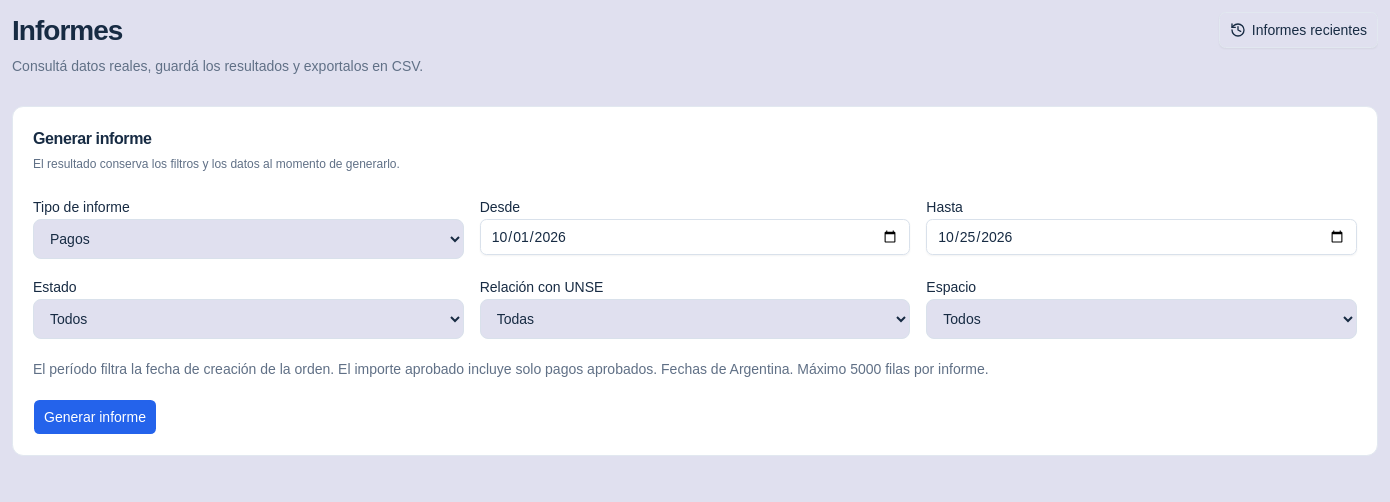
Test case: Reportes y encuestas conectados › envía filtros al backend y exporta la instantánea generada
The image size is (1390, 502).
In the date field labelled "Desde": x=695, y=237 top-left (480, 219), bottom-right (910, 255), type "2026-09-01"
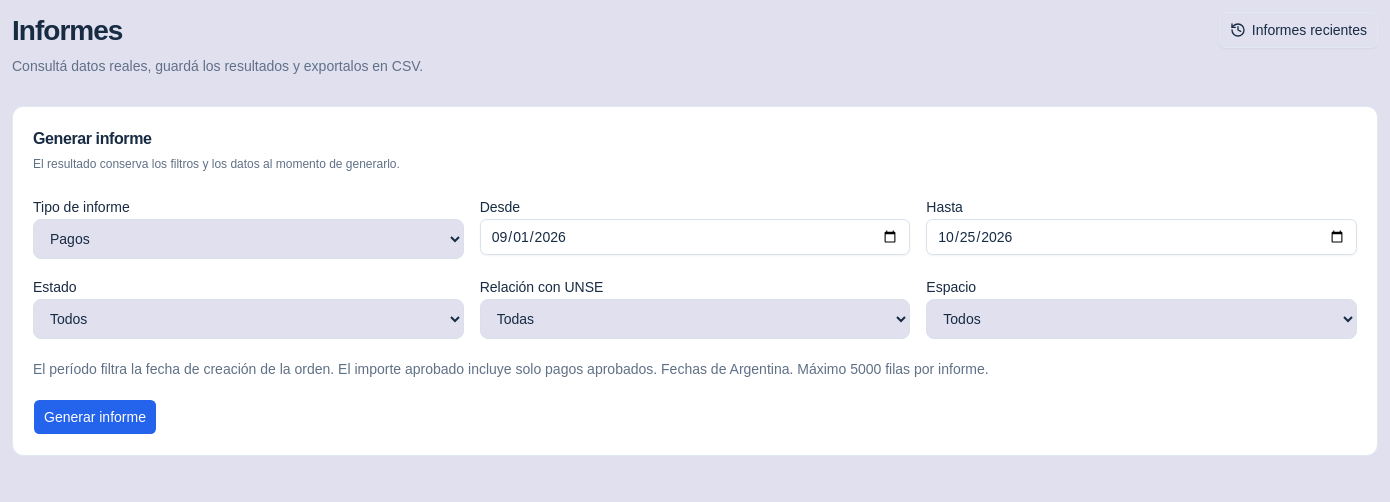
Select "aprobado" in the dropdown labelled "Estado": x=248, y=319 top-left (33, 299), bottom-right (464, 339)
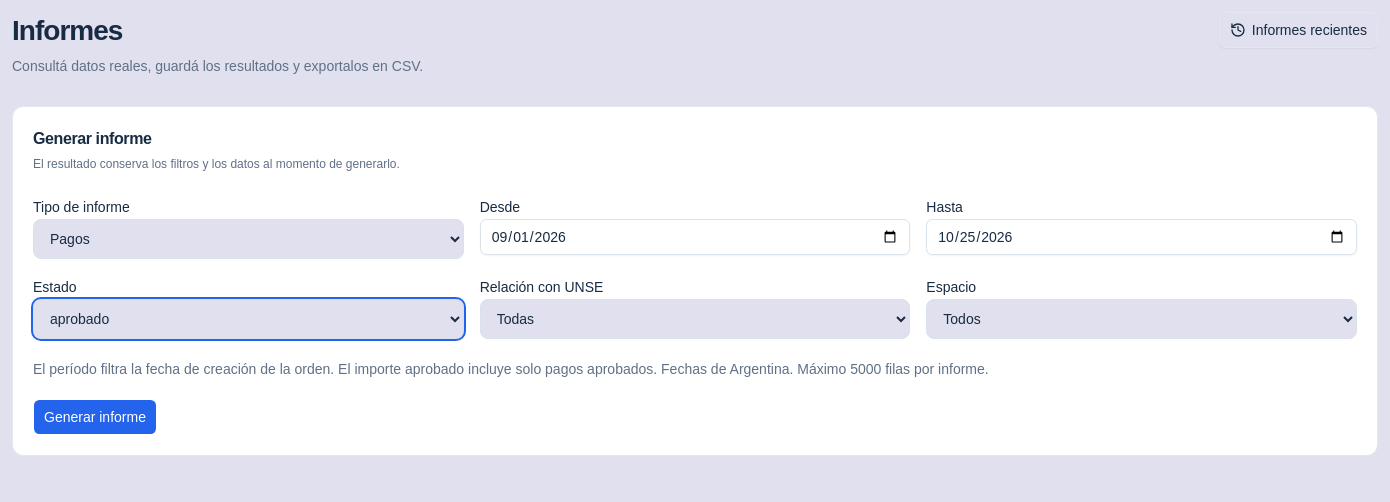
Click the button "Generar informe": x=95, y=417 top-left (33, 399), bottom-right (157, 435)
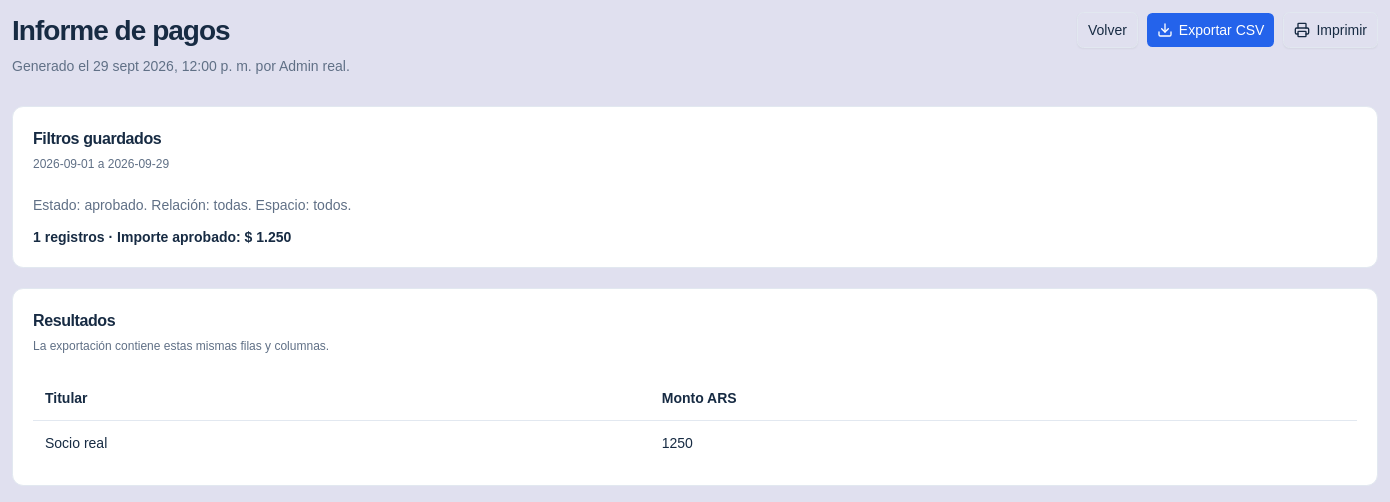
Result: the text "Socio real" is shown at top-left (33, 421), bottom-right (650, 465)
Result: the text "Generado el 29 sept 2026, 12:00 p. m. por Admin real." is shown at top-left (12, 55), bottom-right (350, 78)
